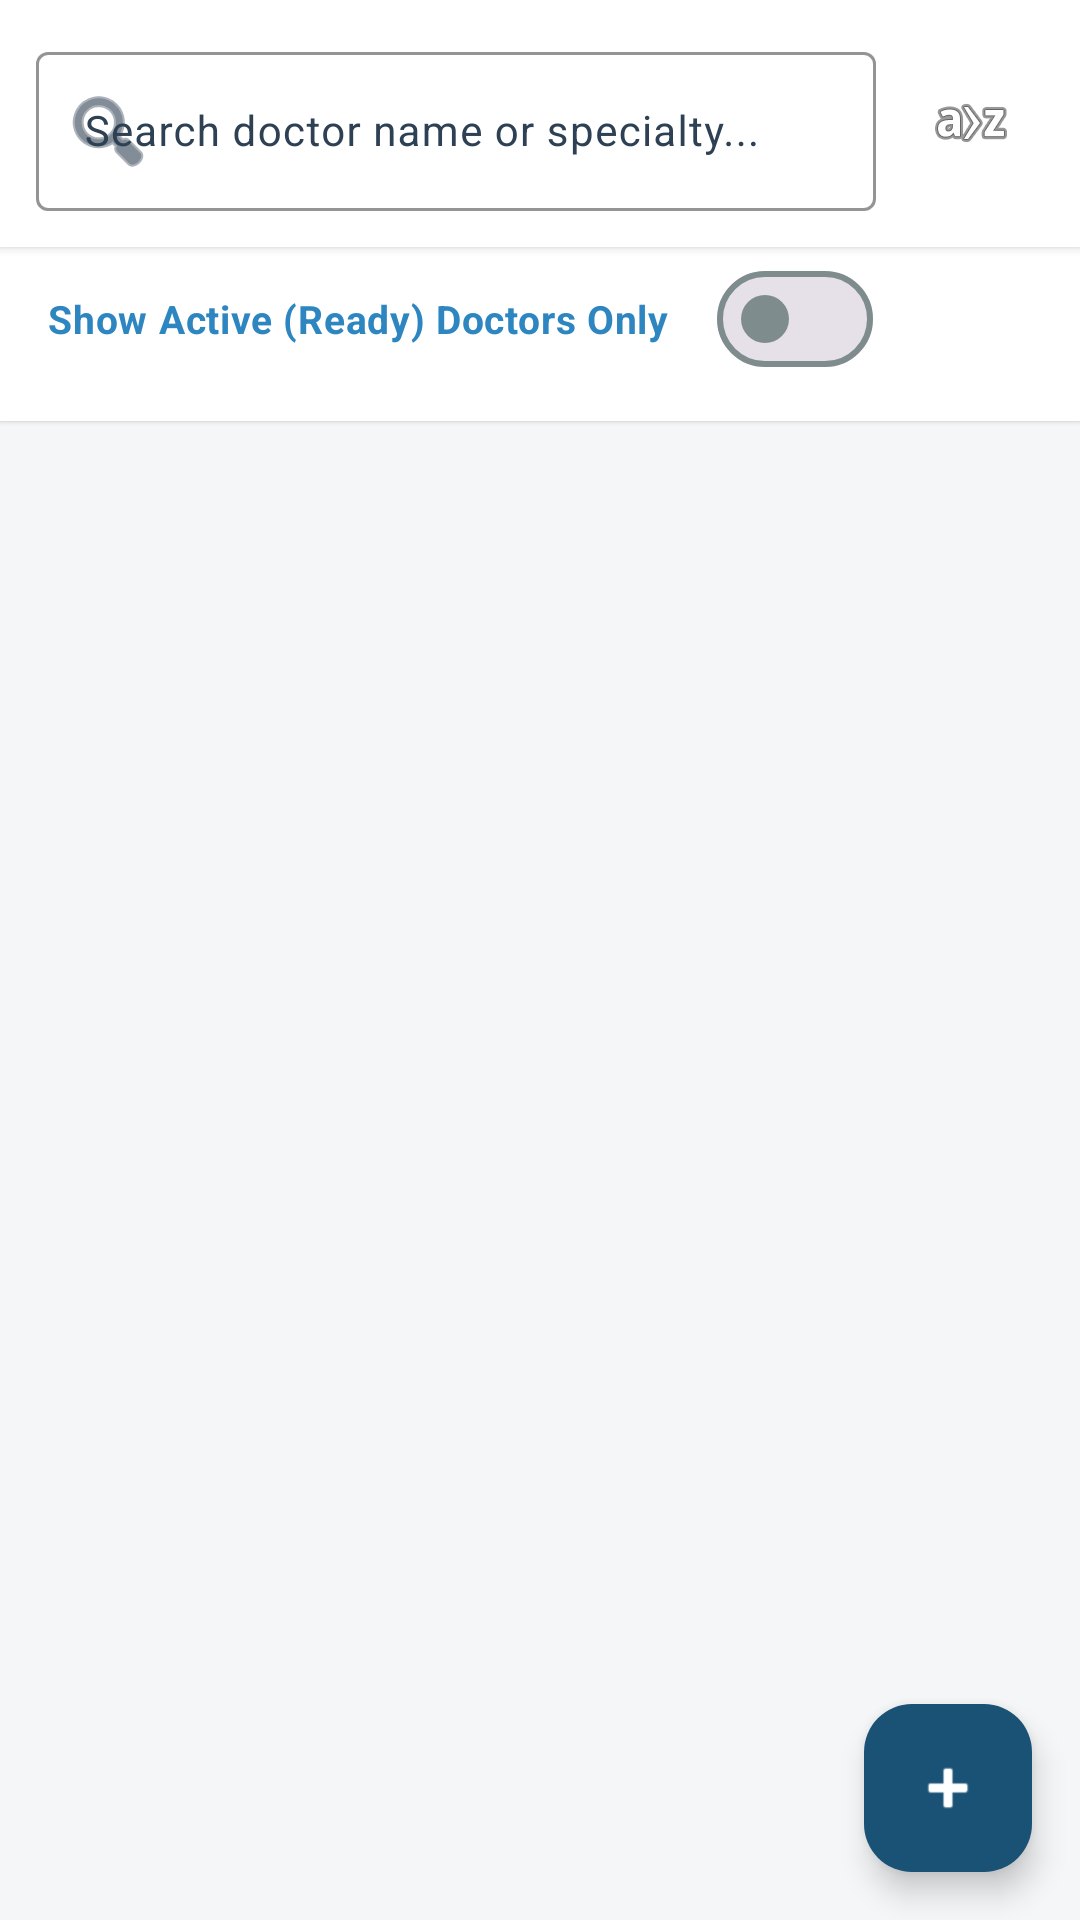

Icons on this 1080px x 1920px Android screen, each with its box as (x1, y1, x2, y2):
Add new doctor: (864, 1704, 1032, 1872)
Sort Doctors: (935, 104, 1007, 142)
